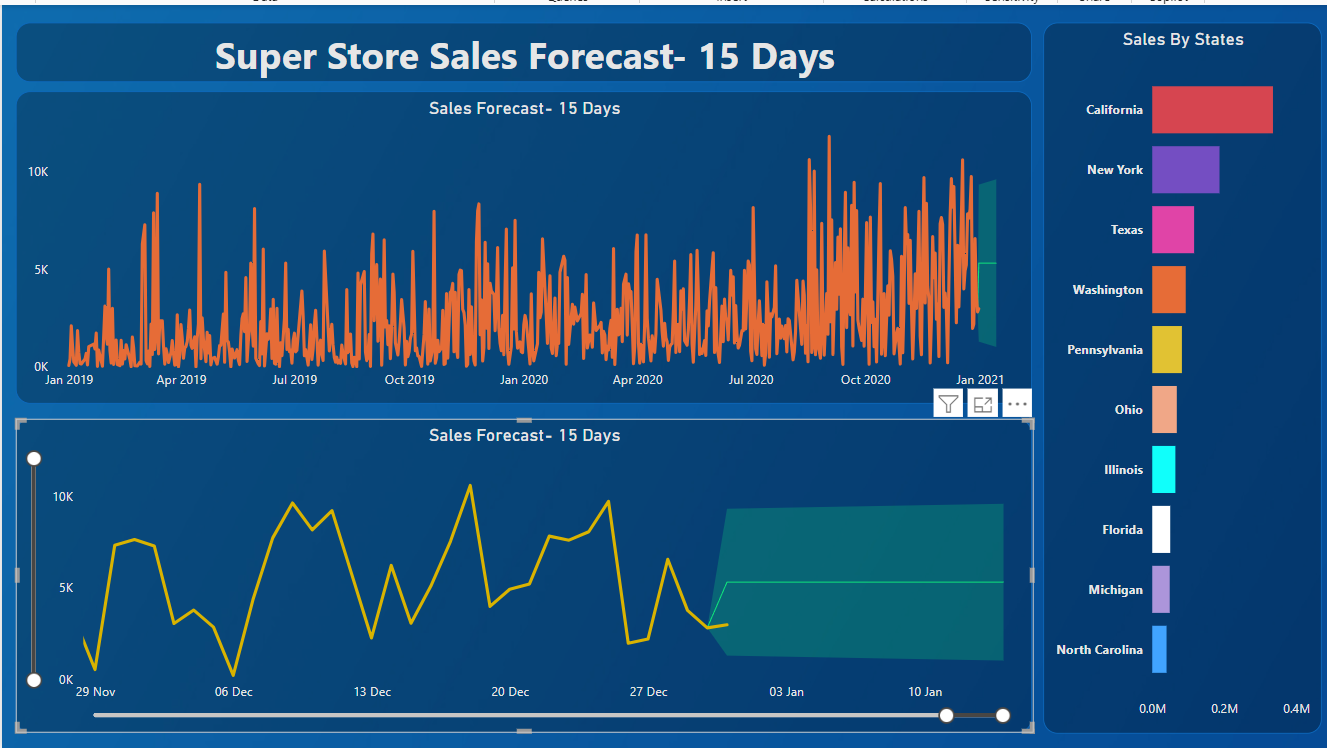

What the dashboard file says about the page in this screenshot:
{"tool":"powerbi","page":{"name":"Sales Forcasting","canvas":[1280,720],"ordinal":2},"visuals":[{"type":"lineChart","title":"Sales Forecast- 15 Days","fields":{"Y":["Sum(SuperStore_Sales_Dataset.Sales)"],"Category":["SuperStore_Sales_Dataset.Order Date"]},"box":[13.7,399.3,981.1,303.3],"z":0},{"type":"lineChart","title":"Sales Forecast- 15 Days","fields":{"Y":["Sum(SuperStore_Sales_Dataset.Sales)"],"Category":["SuperStore_Sales_Dataset.Order Date"]},"box":[13.7,83.7,981.1,301.9],"z":1000},{"type":"clusteredBarChart","title":"Sales By States","fields":{"Y":["Sum(SuperStore_Sales_Dataset.Sales)"],"Category":["SuperStore_Sales_Dataset.State"]},"box":[1005,16.9,269,686.5],"z":2000},{"type":"textbox","title":"Super Store Sales Forecast- 15 Days","box":[13.7,16.5,981.1,57.6],"z":3000}]}

Visuals, with their boxes on the page's 1280x720 design canvas (x1, y1, x2, y2). These are canvas units, not pixel positions in the 1327x748 screenshot, which may show the page scaled, cropped or inside an application window:
"Sales Forecast- 15 Days" lineChart: pyautogui.locateOnScreen(14, 399, 995, 703)
"Sales Forecast- 15 Days" lineChart: pyautogui.locateOnScreen(14, 84, 995, 386)
"Sales By States" clusteredBarChart: pyautogui.locateOnScreen(1005, 17, 1274, 703)
"Super Store Sales Forecast- 15 Days" textbox: pyautogui.locateOnScreen(14, 16, 995, 74)
